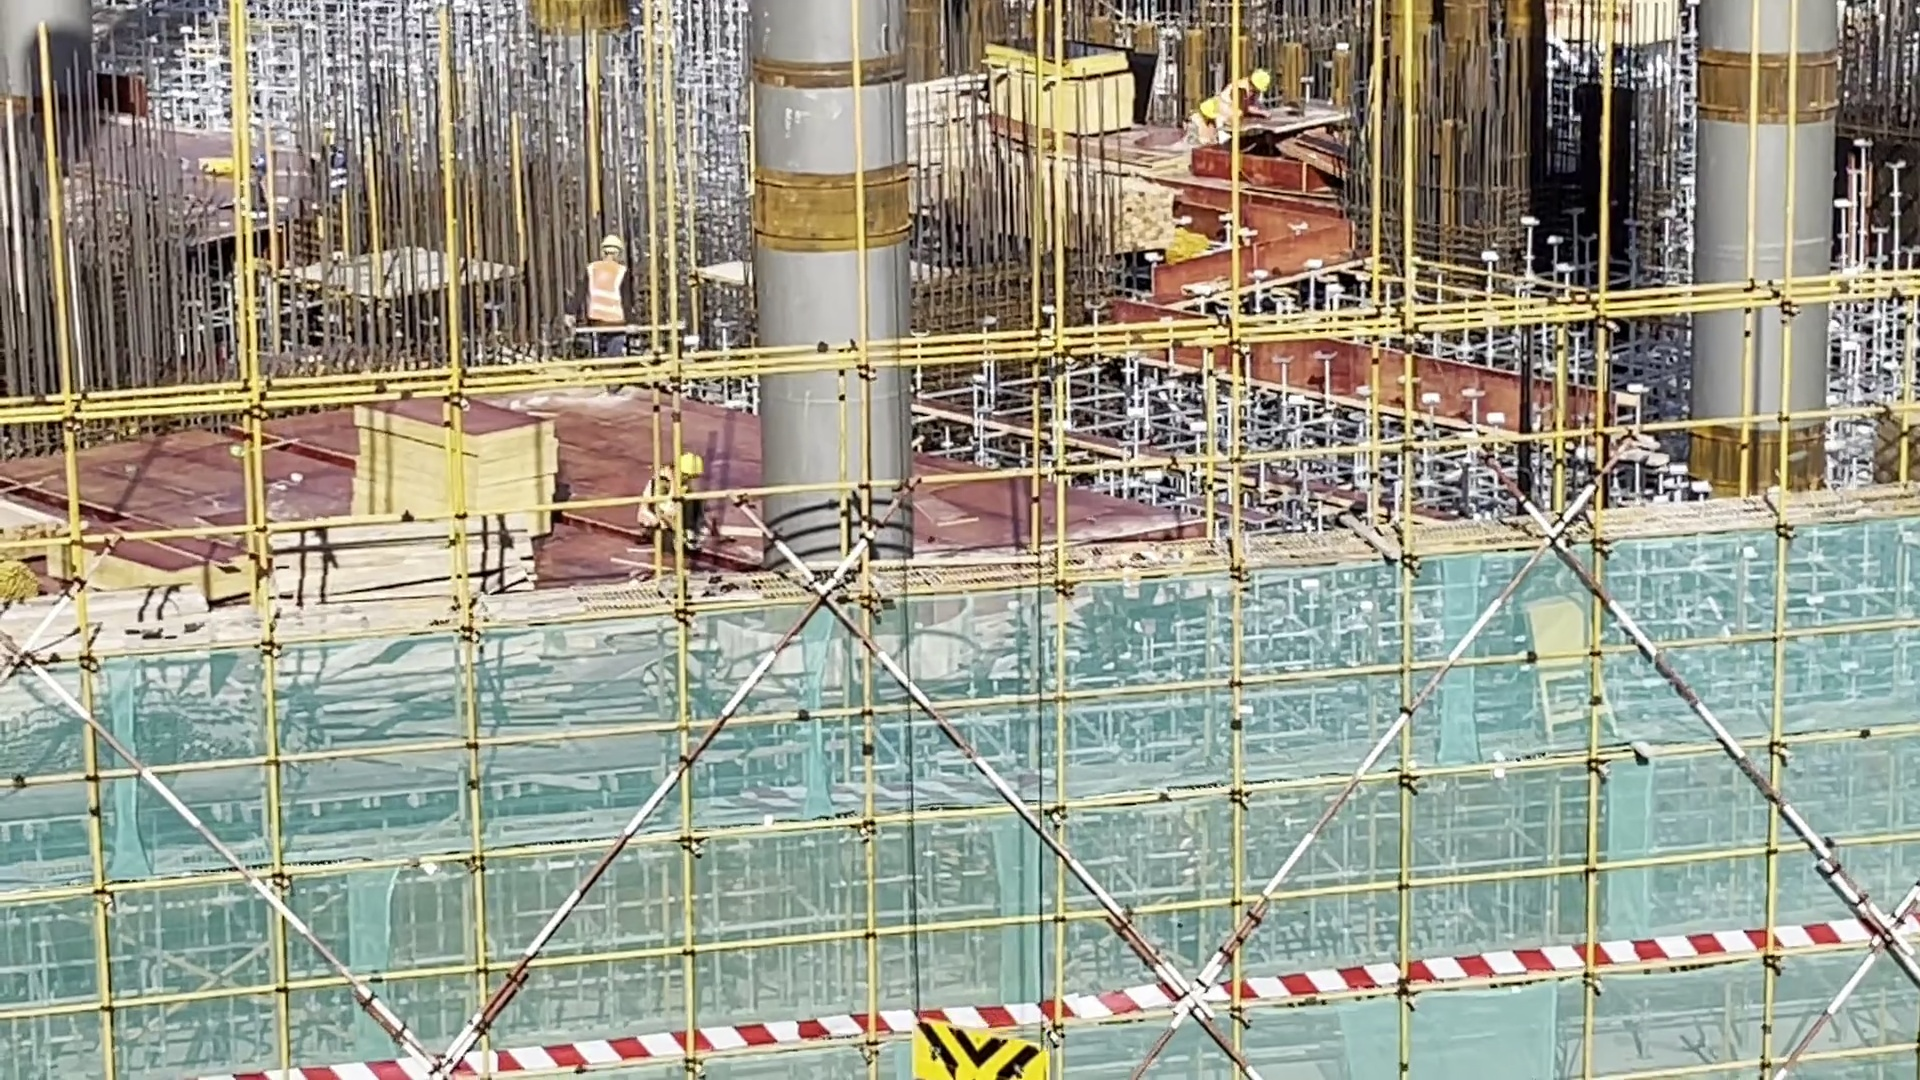board: (346, 397, 562, 539)
helmet: (1248, 69, 1272, 92), (598, 234, 624, 252), (680, 453, 700, 476), (1201, 98, 1221, 118)
hook: (911, 1018, 1046, 1080)
person: (638, 450, 702, 561), (577, 230, 629, 356), (1224, 64, 1275, 104), (1183, 97, 1232, 134)
vest: (589, 262, 625, 323)
